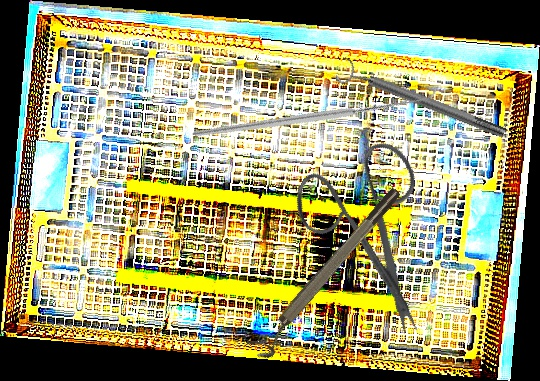Fixation Ring: (245, 184, 411, 364), (334, 54, 509, 148)
Hook Surgical: (190, 8, 439, 214)
Iris Scissors: (261, 115, 492, 341)
